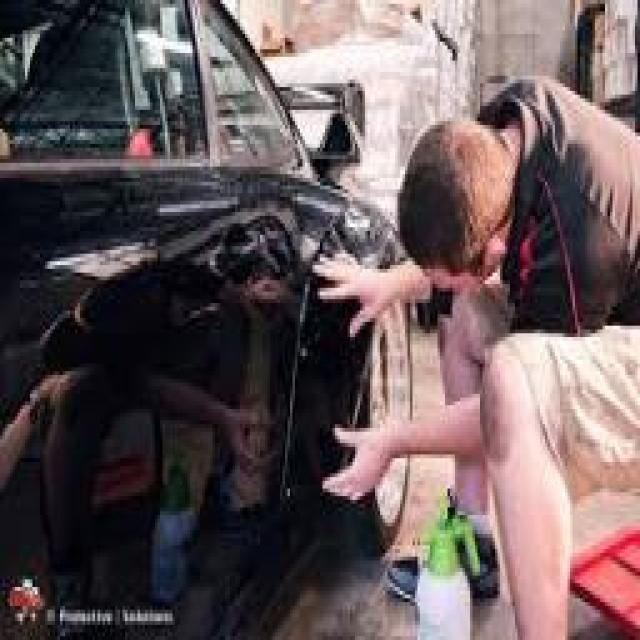Door: (187, 169, 335, 504)
